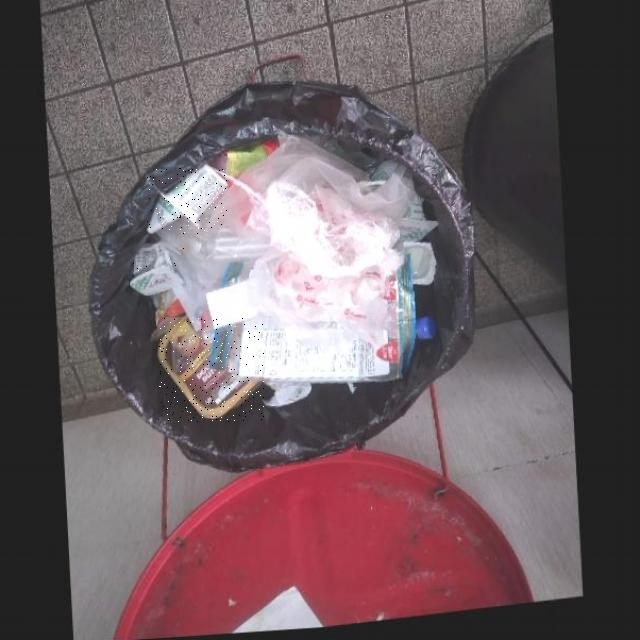plastic: (158, 317, 264, 422), (147, 167, 227, 235), (131, 245, 185, 298)
